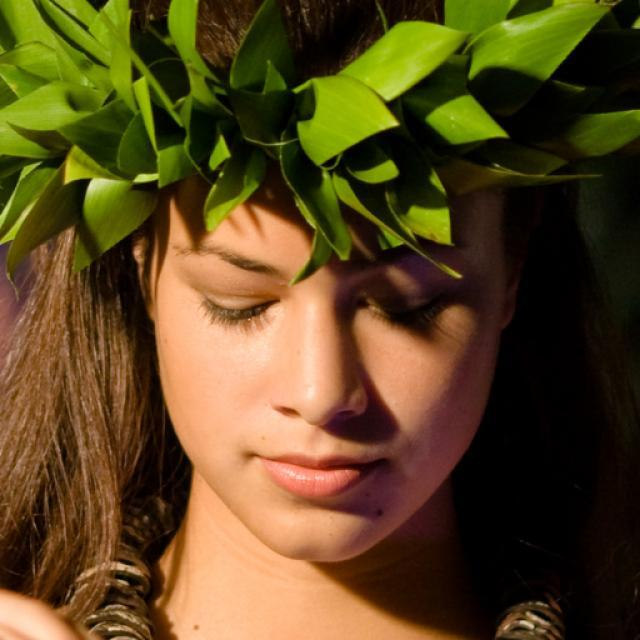sad: (156, 86, 504, 560)
